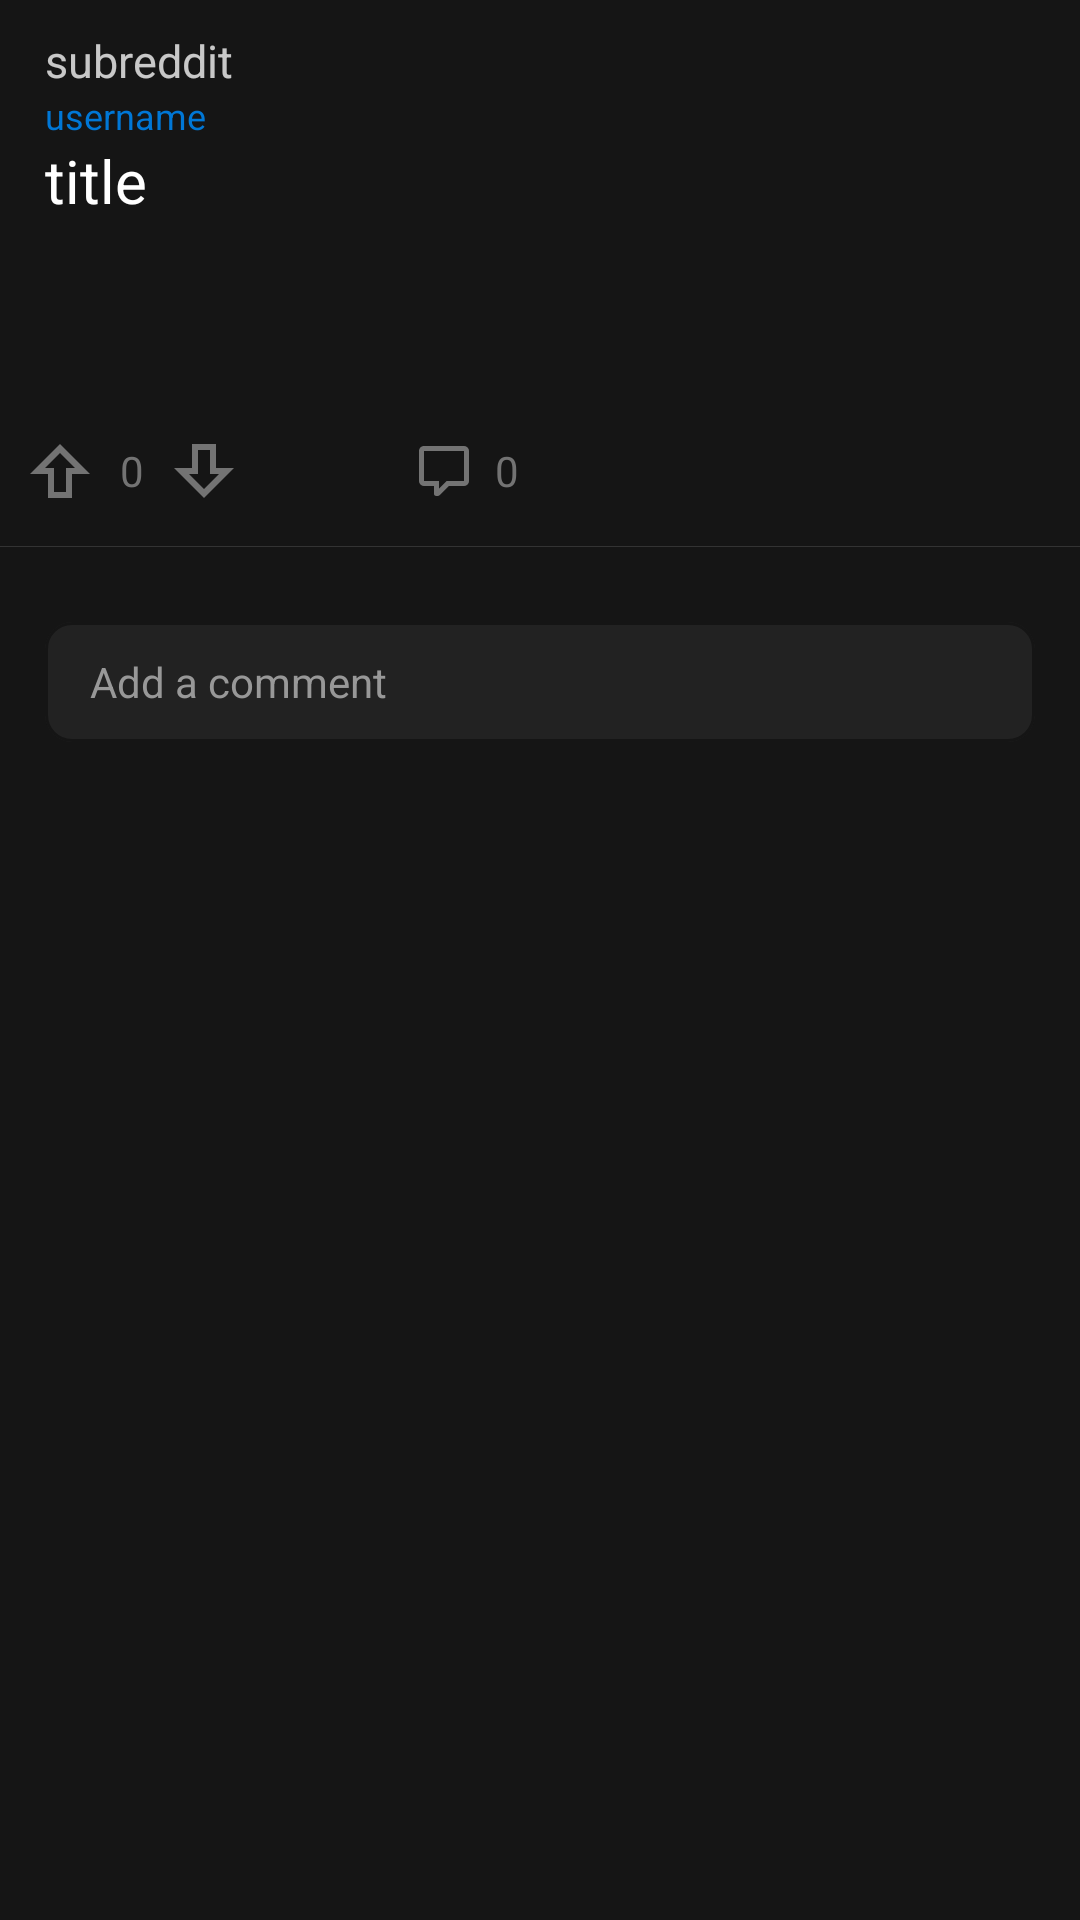

Screen size 1080w x 1920h. Icon name, then its box in pixels as (x1, y1, x2, y2):
downvote: (174, 444, 234, 498)
upvote: (30, 444, 90, 498)
